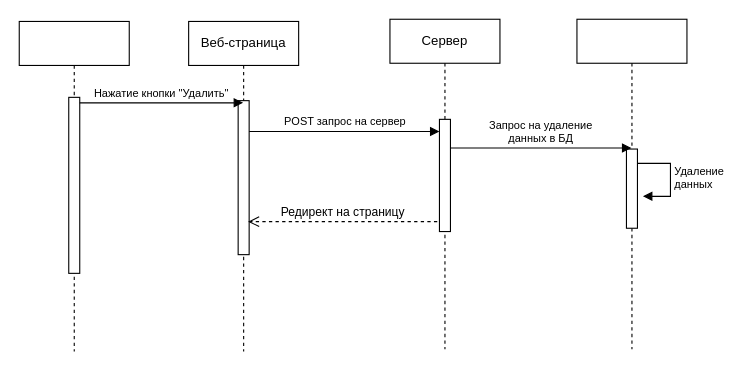
Image size: 747x371. Some labels were removed from this diagram. The shapes that lost their labels are listed below. From the top down, each one's box as (x1, y1, x2, y2) in pixels, then its label:
(18, 20, 129, 351): Пользователь
(576, 18, 687, 349): БД
